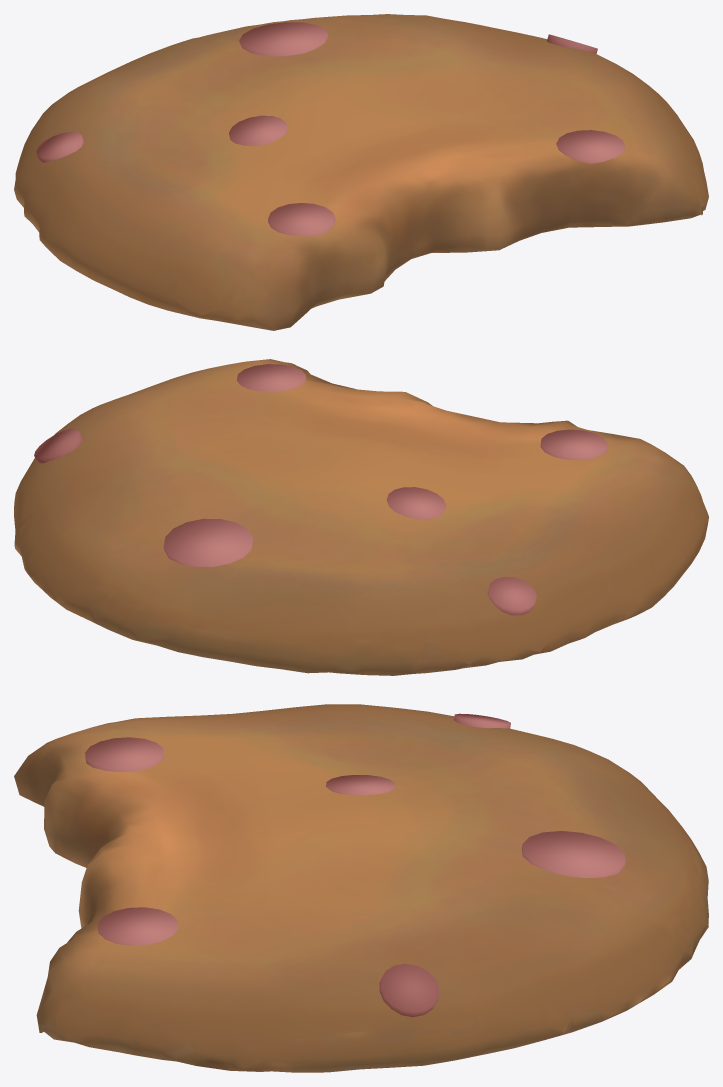
The model's file is CookieBite.glb.
3 renders of one model, top to bottom at view 1: azimuth 30°, elevation 25°; view 2: azimuth 150°, elevation 25°; view 3: azimuth 270°, elevation 25°, orthographic. The views are drawn at different scales.
Visible parts, largest first — view 1: Cylinder_1, Cylinder.007_0; view 2: Cylinder_1, Cylinder.007_0; view 3: Cylinder_1, Cylinder.007_0.
Boxes of the visible parts, <box> form: Cylinder_1: <box>14,14,708,330</box>; Cylinder.007_0: <box>36,22,625,236</box>; Cylinder_1: <box>14,359,708,675</box>; Cylinder.007_0: <box>34,364,607,615</box>; Cylinder_1: <box>14,704,708,1072</box>; Cylinder.007_0: <box>85,713,625,1017</box>.
Bounding box in the file's own units: 3.31 × 0.4205 × 2.84.
Materials: 4 (1 with a texture image).
